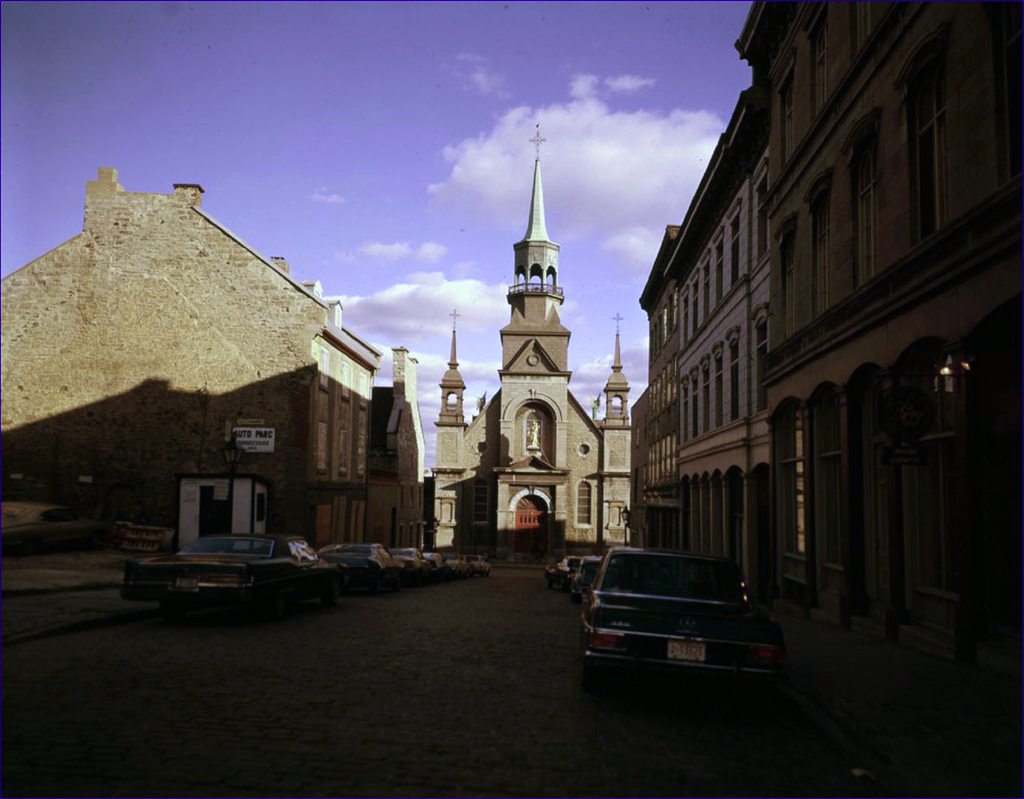Car: (556, 546, 796, 700), (122, 524, 493, 623)
